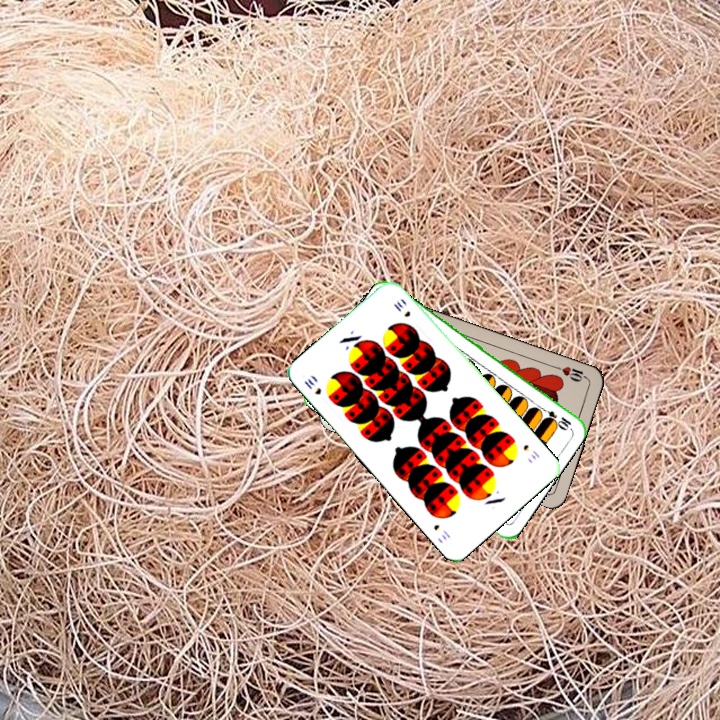E10: (536, 403, 574, 431)
H10: (551, 362, 591, 384)
S10: (300, 374, 324, 397), (519, 440, 542, 463)
